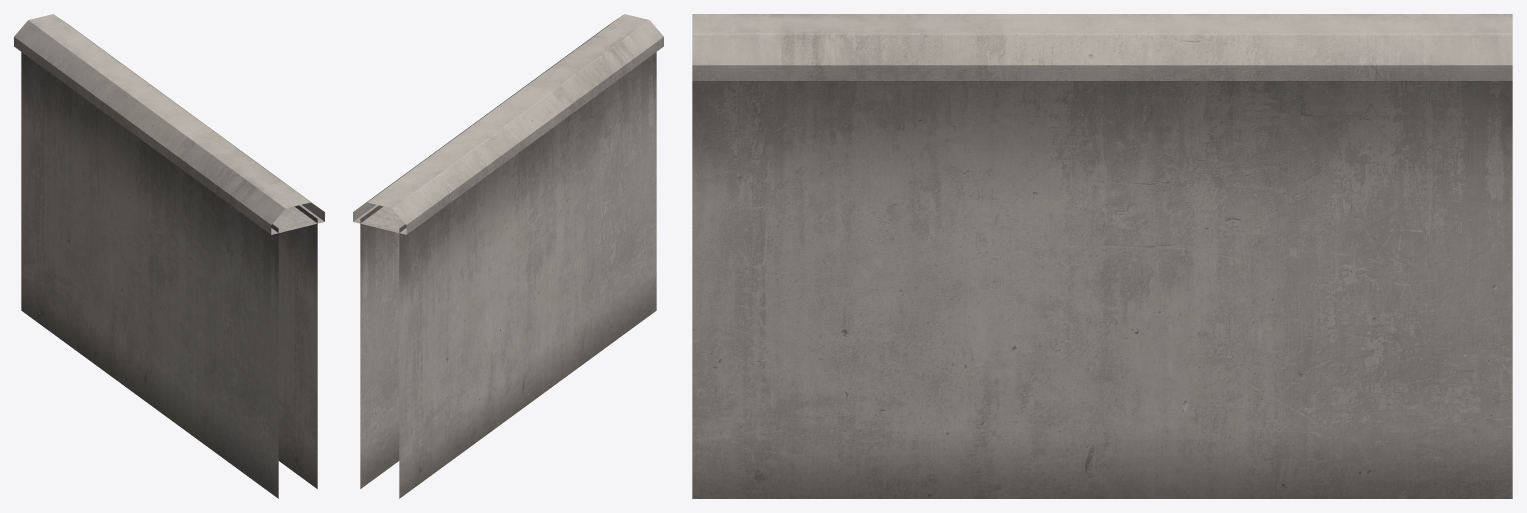
The model's file is weiqiang_01.FBX.
3 renders of one model, left to right at view 1: azimuth 30°, elevation 25°; view 2: azimuth 150°, elevation 25°; view 3: azimuth 270°, elevation 25°, orthographic. The views are drawn at different scales.
Visible parts, largest first — view 1: weiqiang_01; view 2: weiqiang_01; view 3: weiqiang_01.
Part boxes in pixels (x1,y1,x2,y2): weiqiang_01: (14,14,324,498); weiqiang_01: (353,14,663,498); weiqiang_01: (692,14,1512,498).
Size of the model in its own units: 76.32 by 394 by 636.
